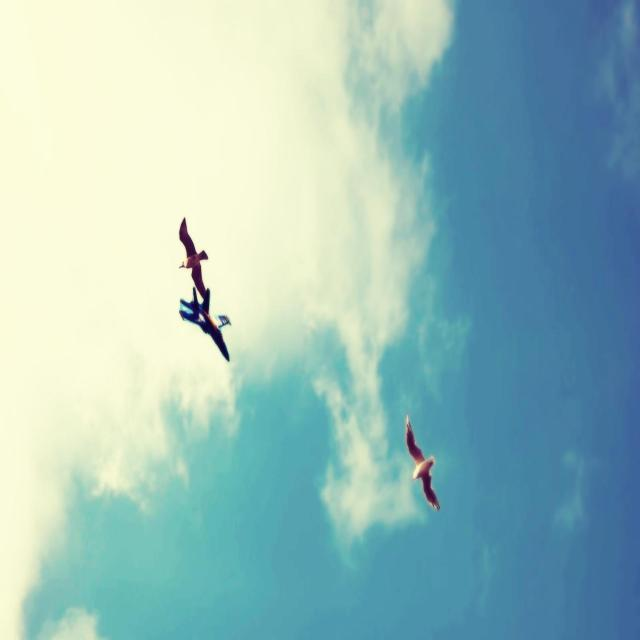airplane: (178, 285, 232, 362)
